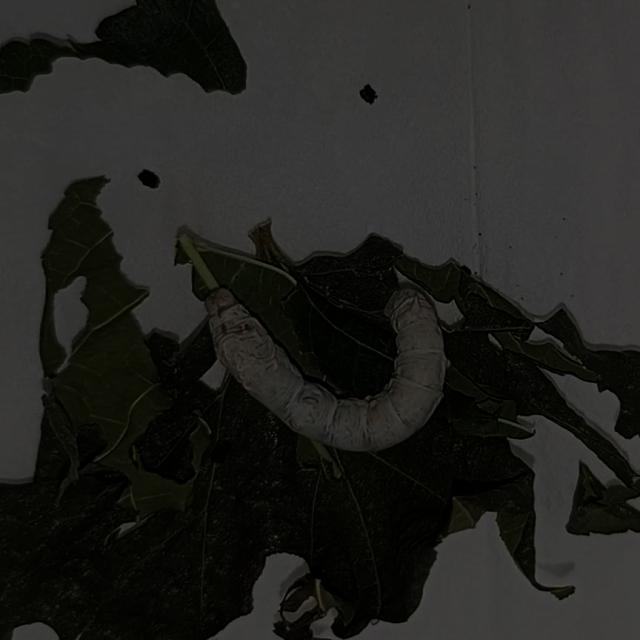Healthy: (187, 263, 474, 463)
